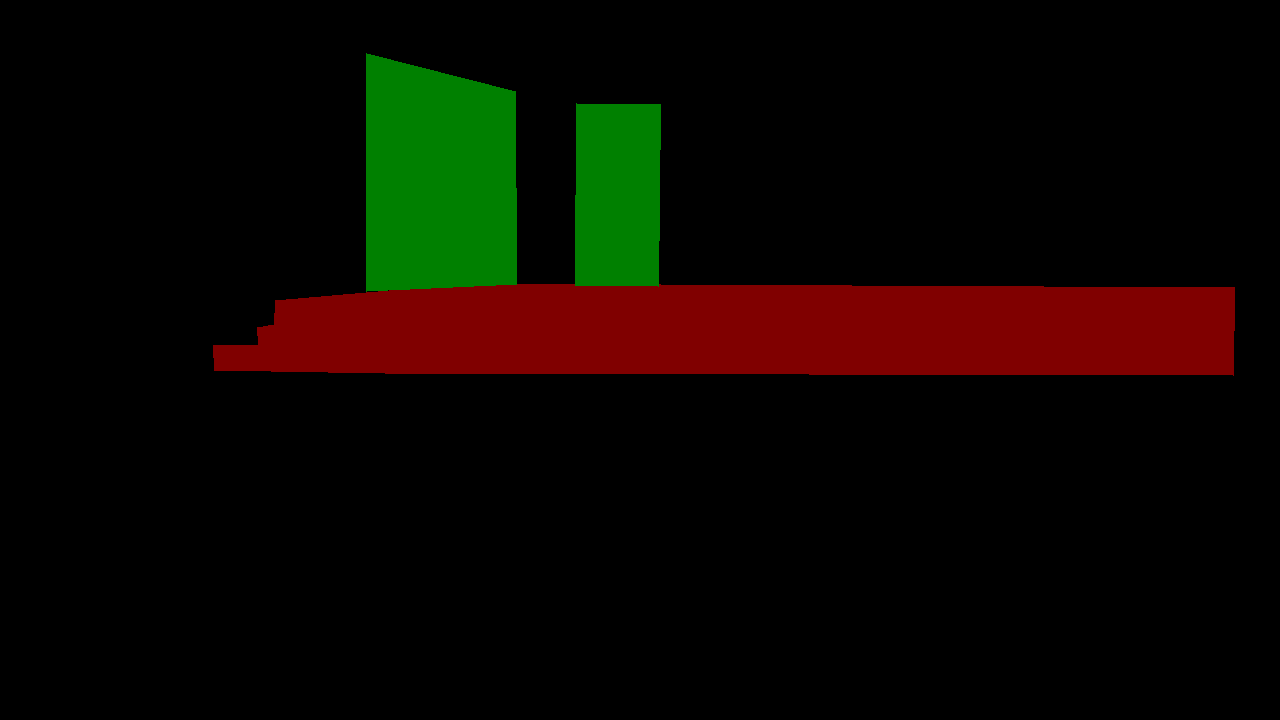door: (366, 53, 516, 291), (575, 103, 660, 286)
stair: (213, 283, 1234, 375)
